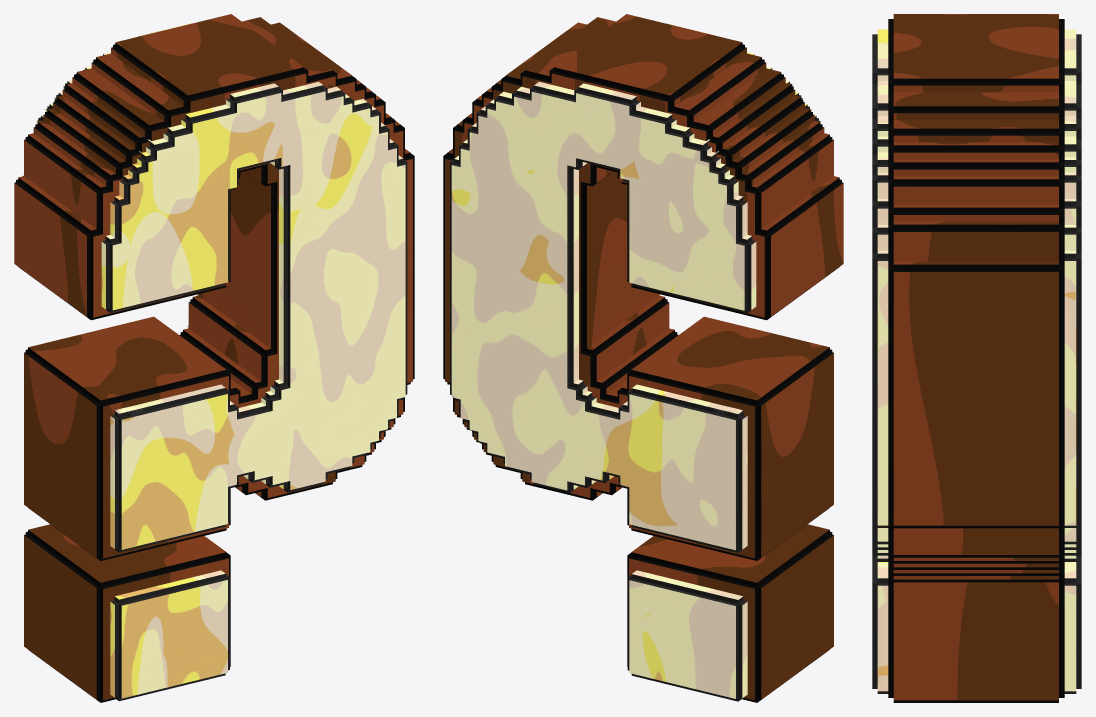
The model's file is qrestiorn.glb.
The picture shows the model from 3 angles, left to right: view 1: azimuth 30°, elevation 25°; view 2: azimuth 150°, elevation 25°; view 3: azimuth 270°, elevation 25°; orthographic projection. The views are drawn at different scales.
Parts seen in each view (by area): view 1: Text.001; view 2: Text.001; view 3: Text.001.
Part boxes in pixels (x1=…): Text.001: x1=14, y1=14, x2=414, y2=702; Text.001: x1=443, y1=14, x2=843, y2=702; Text.001: x1=872, y1=14, x2=1081, y2=702.
Bounding box in the file's own units: 1.58 × 2.7 × 0.769.
Materials: 4 (2 with a texture image).
